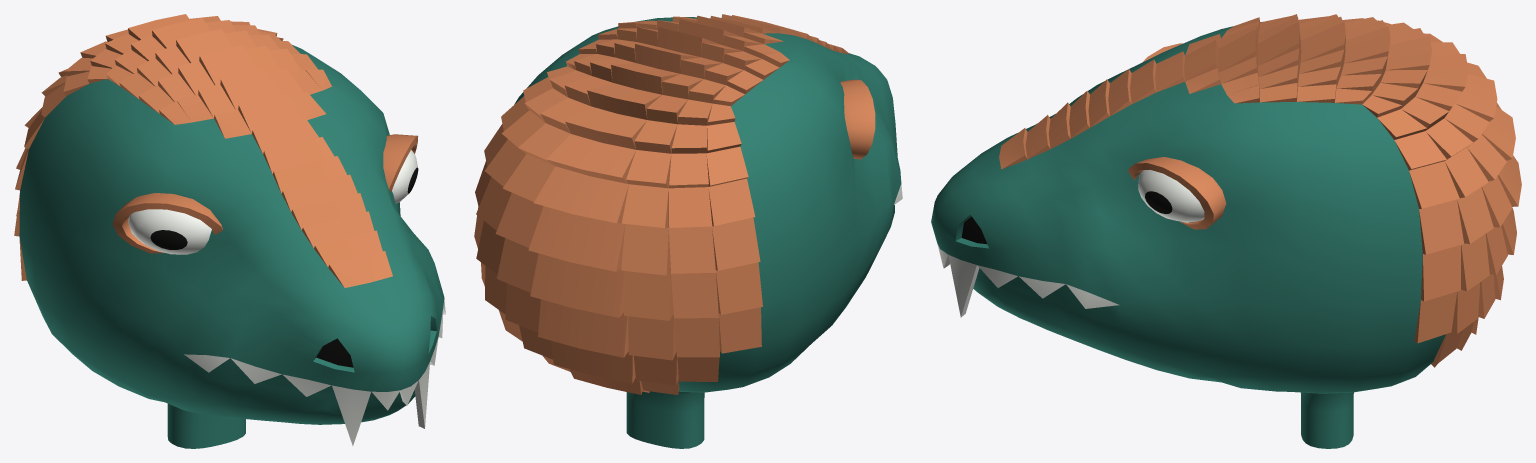
File: Head1.fbx
3 views of the same model, side by side, from view 1: azimuth 30°, elevation 25°; view 2: azimuth 150°, elevation 25°; view 3: azimuth 270°, elevation 25° (orthographic).
Visible parts, largest first — view 1: Head1, Eye.R, Eye.L; view 2: Head1; view 3: Head1, Eye.L.
Boxes of the visible parts, box(x1,y1,x2,y2) form: Head1: box(14, 14, 445, 448); Eye.R: box(128, 209, 211, 254); Eye.L: box(392, 149, 418, 203); Head1: box(474, 14, 902, 448); Head1: box(931, 14, 1521, 448); Eye.L: box(1138, 170, 1204, 222).
Size of the model in its own units: 0.3408 by 0.4103 by 0.5502.
